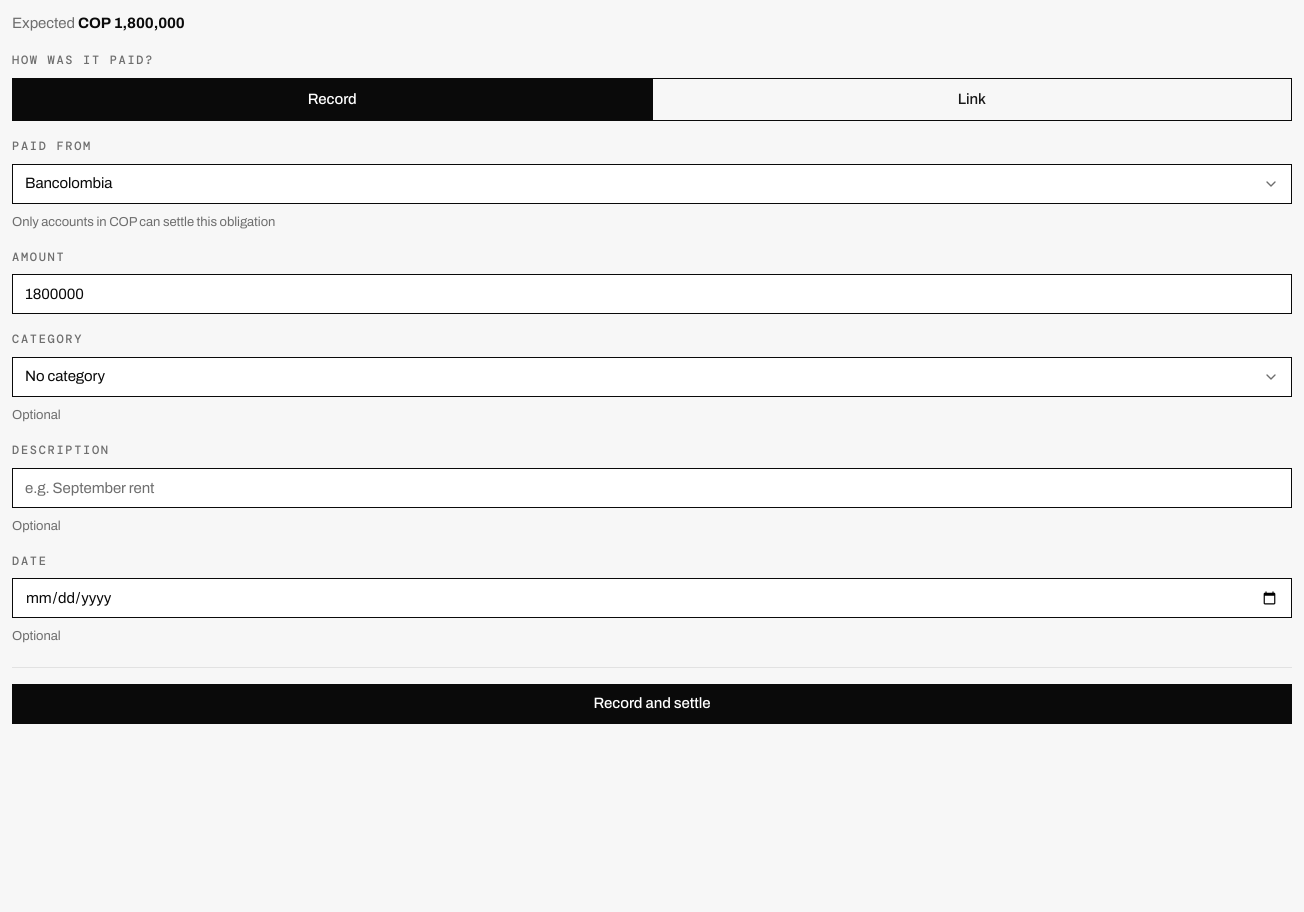
Test: ReconcileForm › says so when there is nothing to link, without hiding the way to record
The image size is (1304, 912).
Step 1. Click the tab "Link" → click(971, 99), box x1=652 y1=79 x2=1291 y2=120
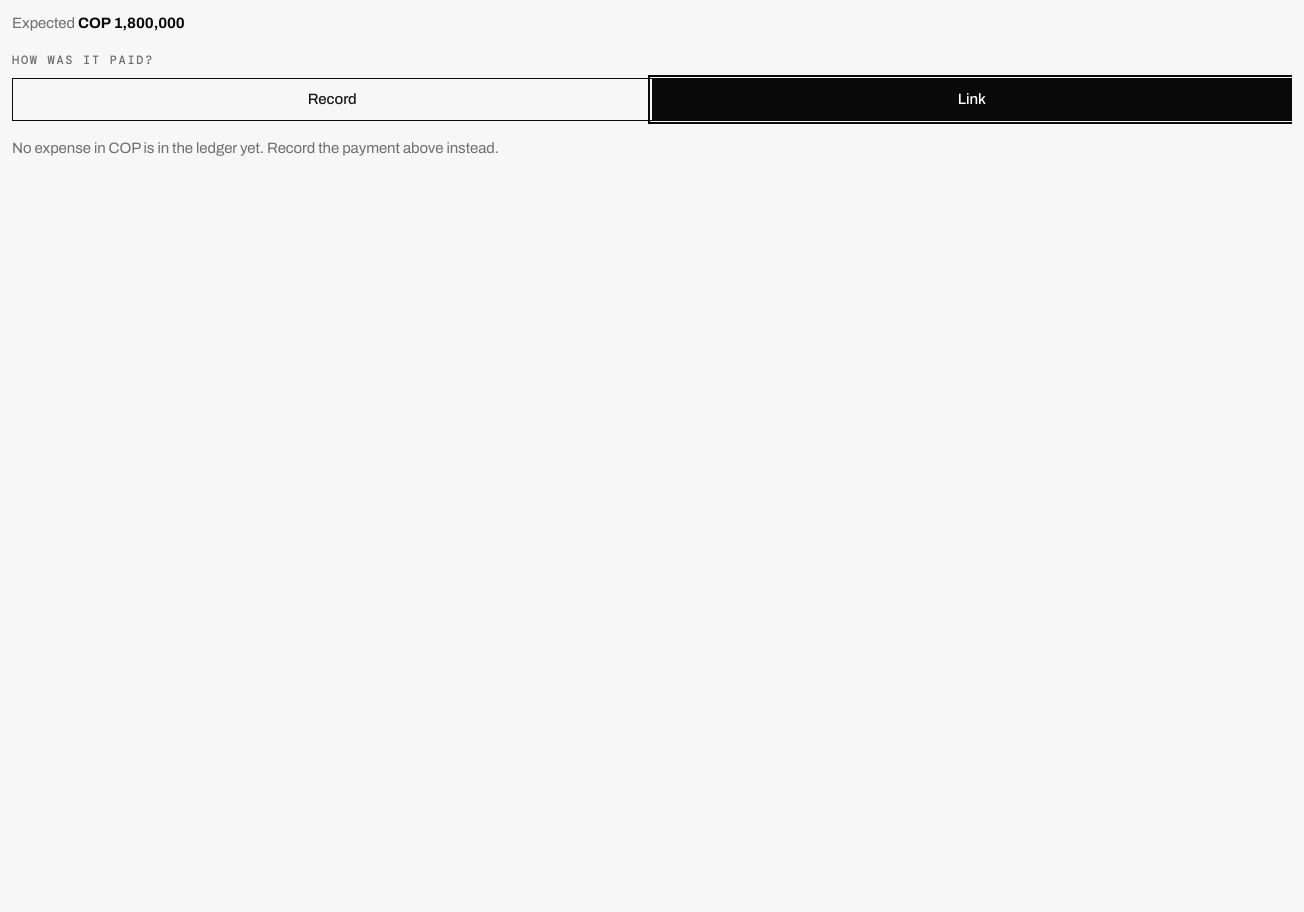
Check: the tab "Record" is shown, box x1=13 y1=79 x2=652 y2=120
Check: the text "No expense in COP" is shown, box x1=12 y1=140 x2=499 y2=156
